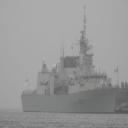Fragata: (21, 1, 123, 116)
